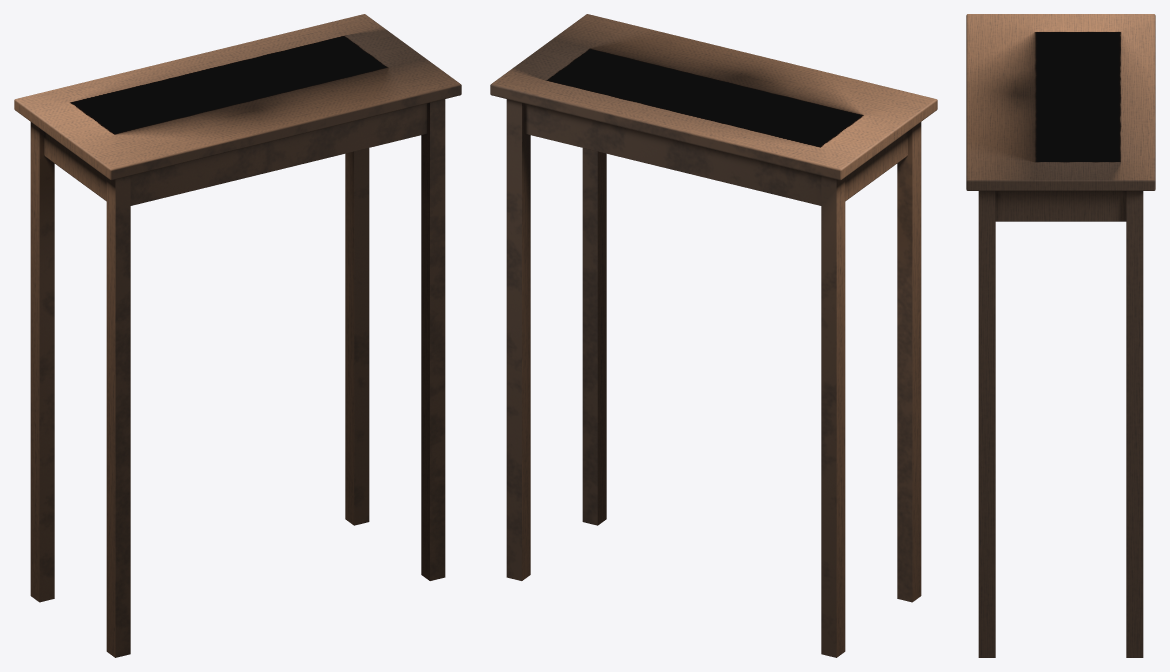
The model's file is 814_ground.glb.
3 views of the same model, side by side, from view 1: azimuth 30°, elevation 25°; view 2: azimuth 150°, elevation 25°; view 3: azimuth 270°, elevation 25° (orthographic). The views are drawn at different scales.
Visible parts, largest first — view 1: Table; view 2: Table; view 3: Table.
Boxes of the visible parts, left/top/right/bottom form: Table: left=14, top=14, right=461, bottom=657; Table: left=490, top=14, right=937, bottom=657; Table: left=966, top=14, right=1155, bottom=657.
Size of what is drawn, in the model's own units: 2.3 by 3.1 by 1.1.
Materials: 1 (1 with a texture image).
